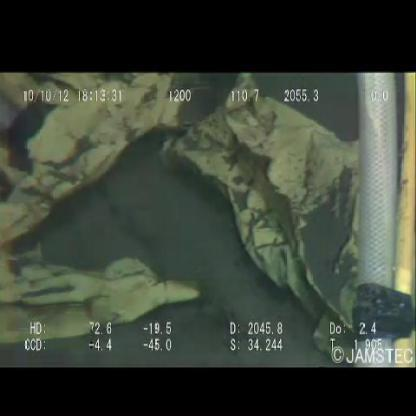Rác: (0, 71, 363, 367)
